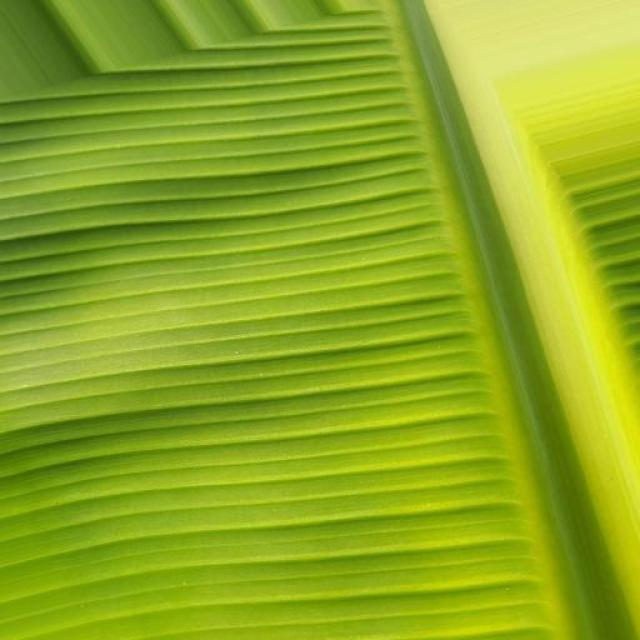Black_leaf_spot: (1, 48, 640, 577)
